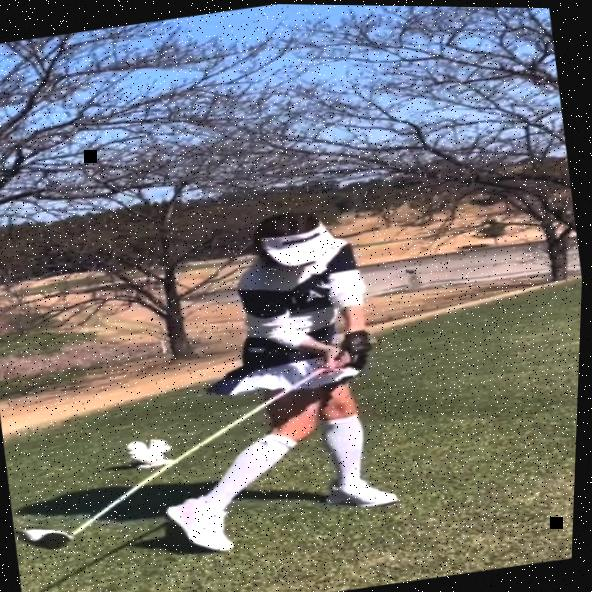ClubHead: (16, 517, 78, 557)
